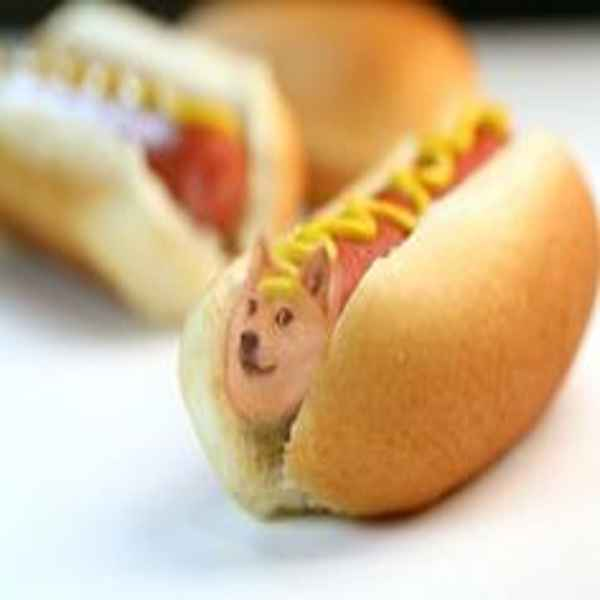doge: (208, 238, 348, 425)
